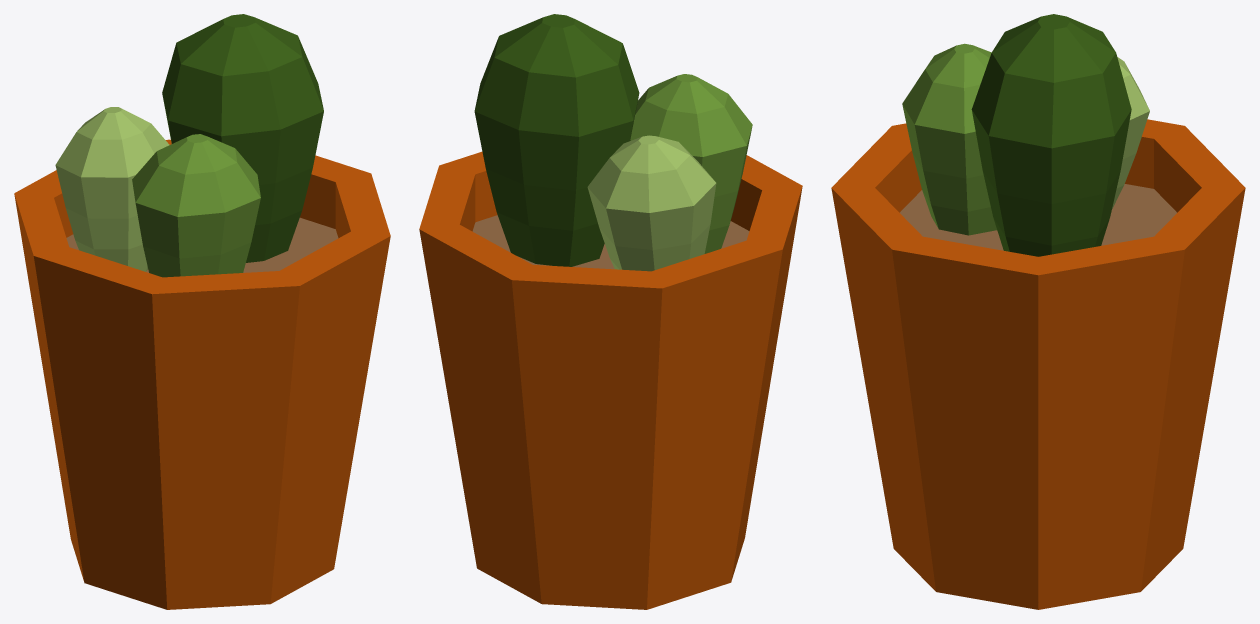
Rendered from cactus2.gltf.
3 renders of one model, left to right at view 1: azimuth 30°, elevation 25°; view 2: azimuth 150°, elevation 25°; view 3: azimuth 270°, elevation 25°, orthographic. The views are drawn at different scales.
Visible parts, largest first — view 1: Cube; view 2: Cube; view 3: Cube.
Part boxes in pixels (<box>): Cube: <box>14,14,390,609</box>; Cube: <box>419,14,802,609</box>; Cube: <box>831,14,1245,609</box>.
Size of the model in its own units: 2.08 by 3.05 by 2.08.
1 material, 1 textured.
